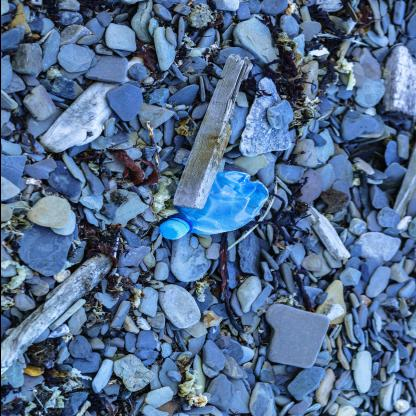plastik: (158, 169, 268, 240)
